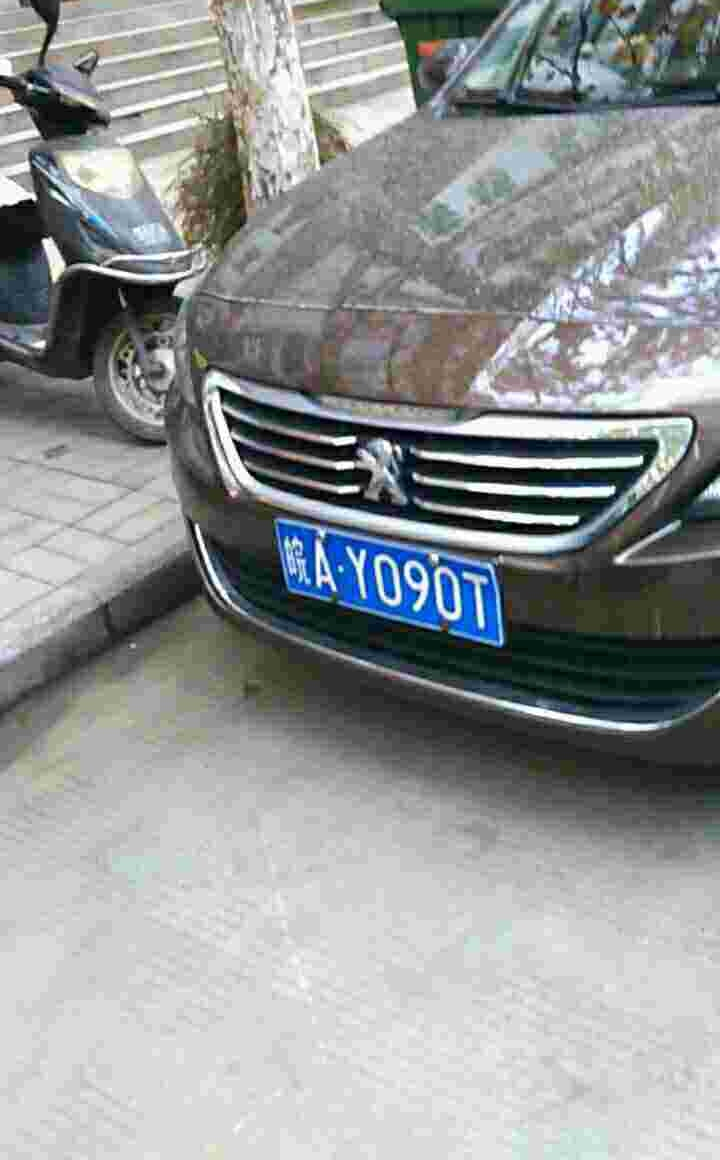license_plate: (275, 520, 503, 644)
